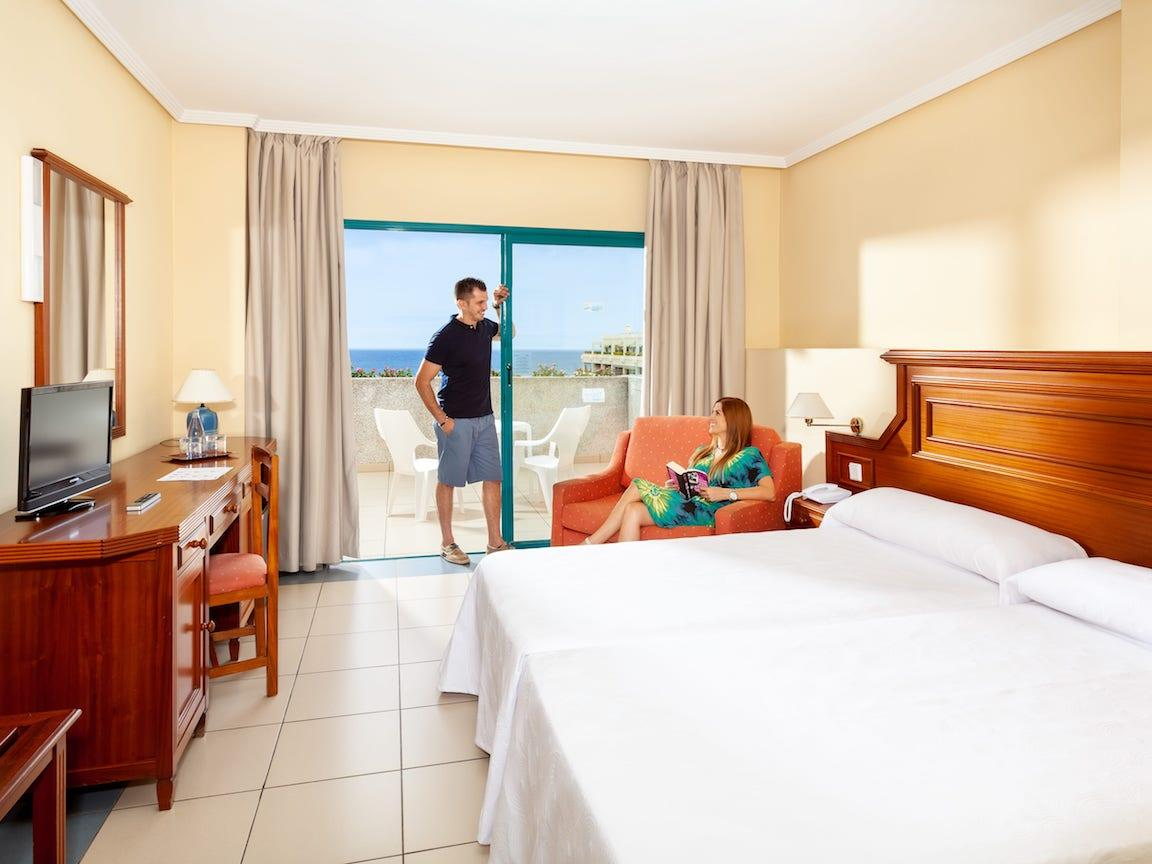bed: (446, 482, 1152, 864)
